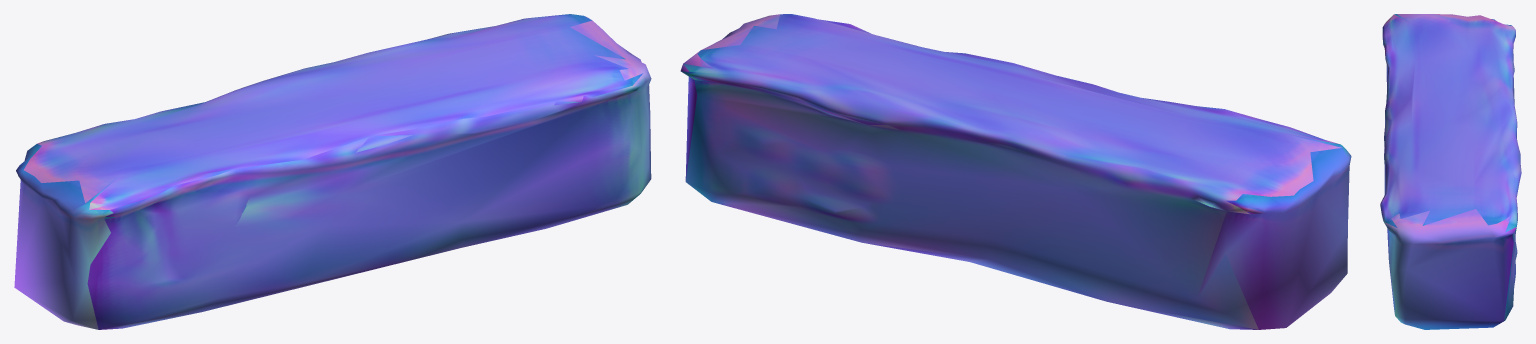
Rendered from spawn block2.fbx.
3 renders of one model, left to right at view 1: azimuth 30°, elevation 25°; view 2: azimuth 150°, elevation 25°; view 3: azimuth 270°, elevation 25°, orthographic. The views are drawn at different scales.
Visible parts, largest first — view 1: spawnblock LP; view 2: spawnblock LP; view 3: spawnblock LP.
Boxes of the visible parts, <box> form: spawnblock LP: <box>14,14,651,329</box>; spawnblock LP: <box>680,14,1351,329</box>; spawnblock LP: <box>1380,14,1521,329</box>.
Size of the model in its own units: 1631 by 404 by 441.
Materials: 1 (1 with a texture image).
